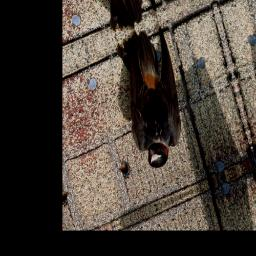Swallow: (109, 19, 196, 176)
